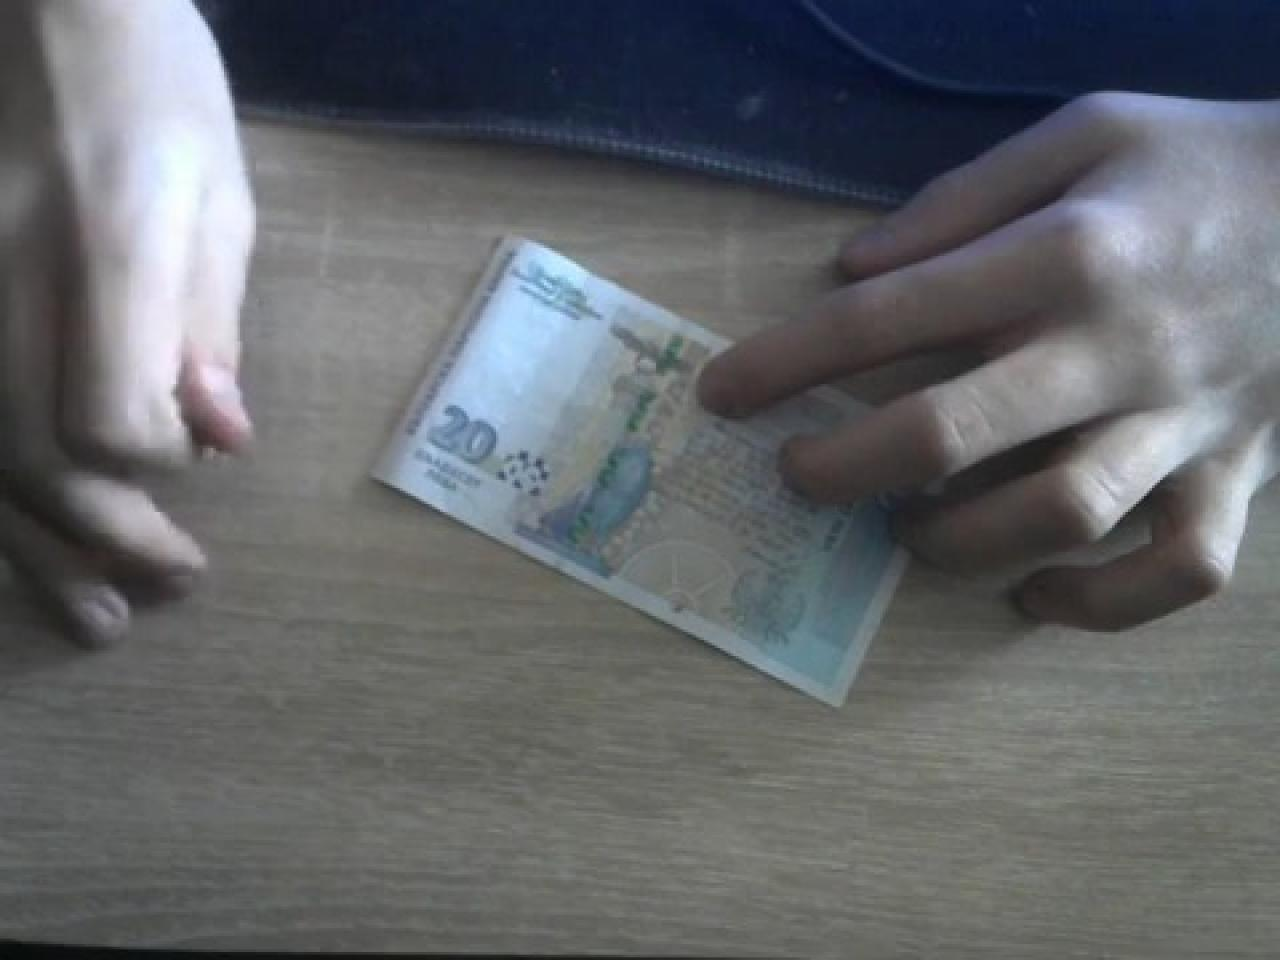20leva: (368, 240, 909, 707)
